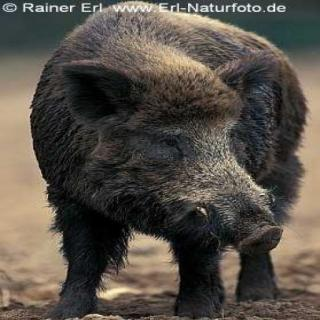Pig: (24, 0, 312, 320)
